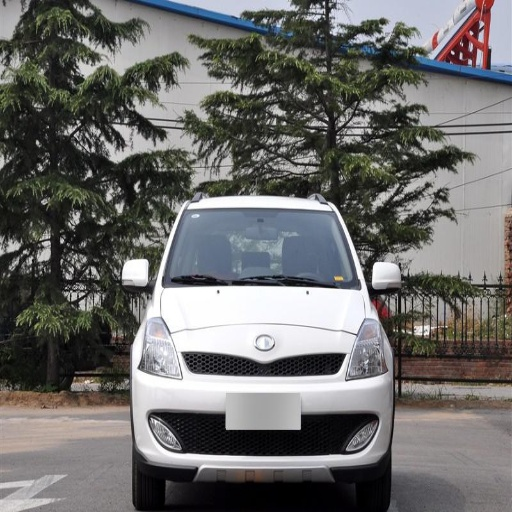front_bumper: (134, 323, 393, 479)
front_right_light: (138, 318, 181, 378)
hood: (159, 287, 370, 334)
